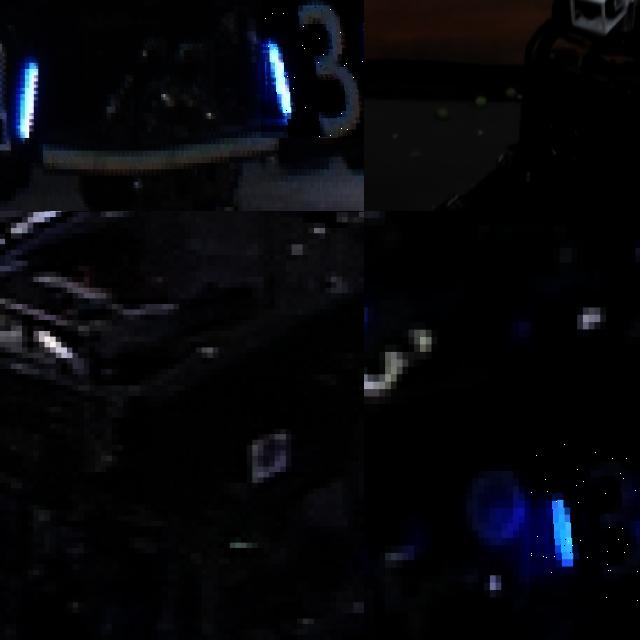B3: (530, 441, 640, 604), (260, 0, 364, 138), (364, 269, 449, 411)
